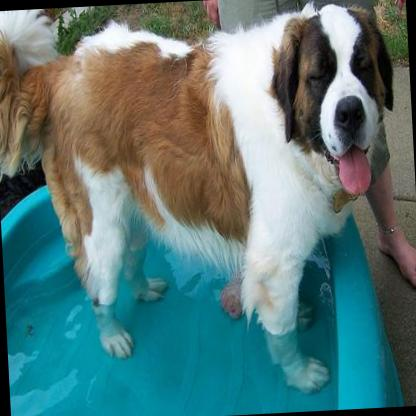Saint_Bernard: (0, 0, 408, 409)
